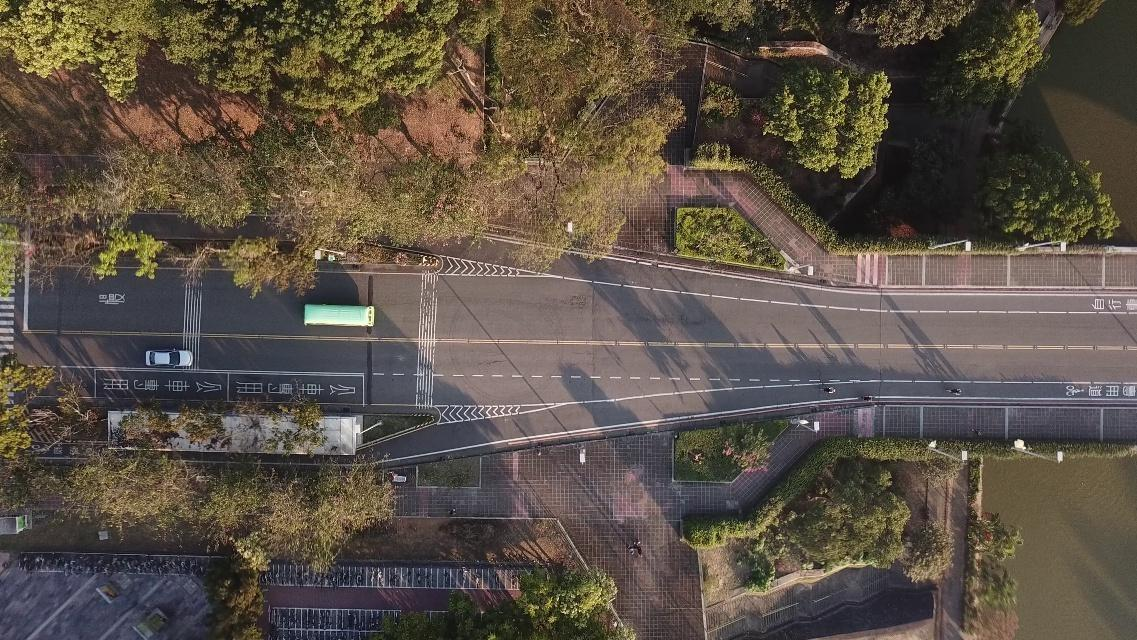Bus: (303, 302, 374, 326)
Car: (145, 347, 192, 367)
